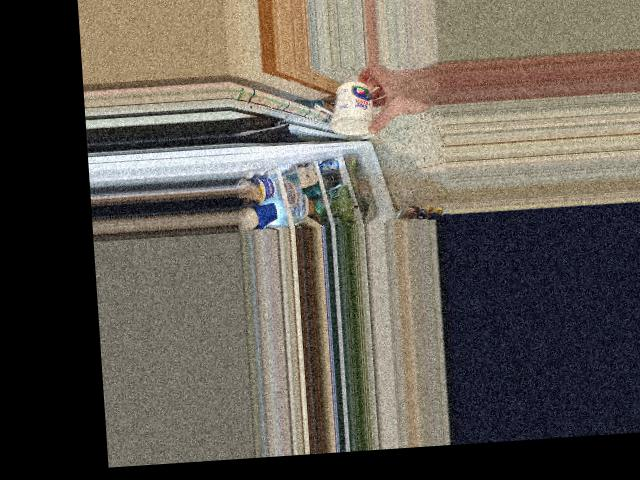cotage: (325, 79, 380, 137)
